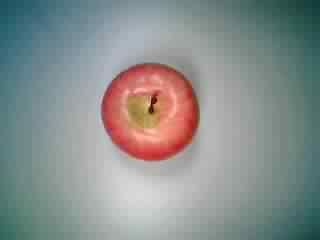apple: (101, 59, 203, 163)
